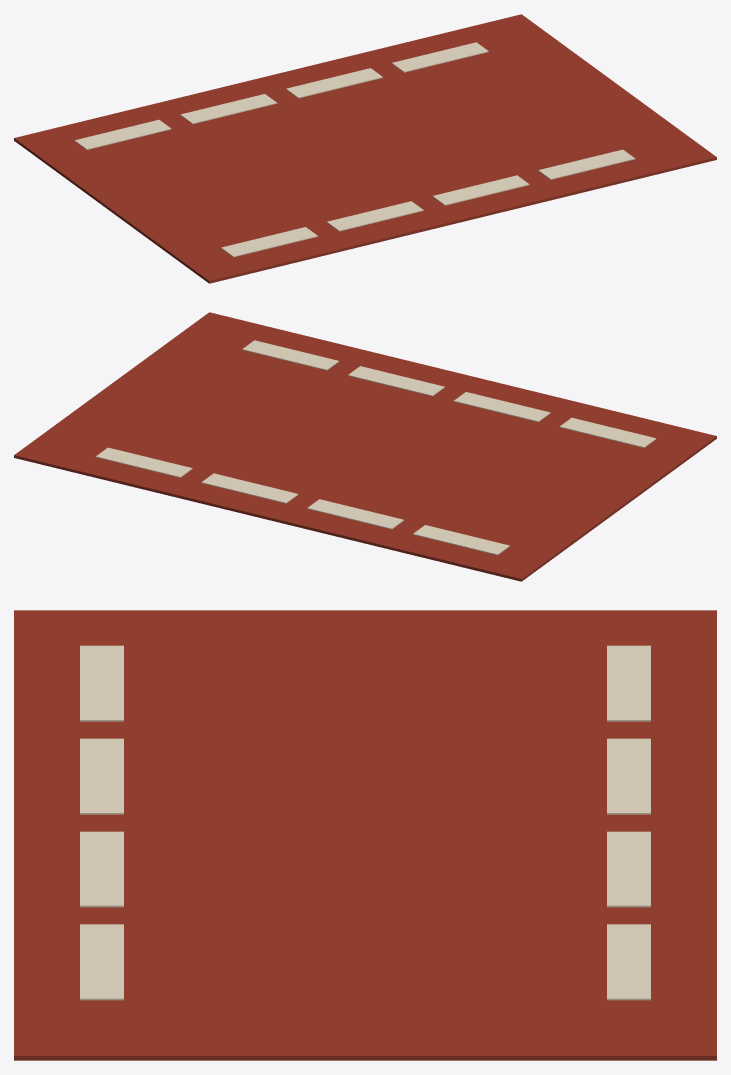
Rendered from city_rug.glb.
3 renders of one model, top to bottom at view 1: azimuth 30°, elevation 25°; view 2: azimuth 150°, elevation 25°; view 3: azimuth 270°, elevation 25°, orthographic. The views are drawn at different scales.
Parts seen in each view (by area): view 1: CityRug_Field, CityRug_Step2, CityRug_StepB2, CityRug_Step3, CityRug_StepB0, CityRug_StepB1, CityRug_Step0, CityRug_Step1, CityRug_StepB3; view 2: CityRug_Field, CityRug_Step2, CityRug_StepB2, CityRug_Step0, CityRug_Step1, CityRug_StepB3, CityRug_Step3, CityRug_StepB0, CityRug_StepB1; view 3: CityRug_Field, CityRug_Step0, CityRug_Step1, CityRug_Step2, CityRug_Step3, CityRug_StepB0, CityRug_StepB1, CityRug_StepB2, CityRug_StepB3.
Part boxes in pixels (bbox=[...]): CityRug_Field: bbox=[14, 14, 716, 283]; CityRug_Step2: bbox=[432, 175, 529, 205]; CityRug_StepB2: bbox=[286, 68, 382, 98]; CityRug_Step3: bbox=[538, 149, 635, 179]; CityRug_StepB0: bbox=[74, 119, 171, 149]; CityRug_StepB1: bbox=[180, 94, 277, 124]; CityRug_Step0: bbox=[221, 227, 317, 257]; CityRug_Step1: bbox=[327, 201, 423, 231]; CityRug_StepB3: bbox=[392, 42, 488, 72]; CityRug_Field: bbox=[14, 312, 716, 581]; CityRug_Step2: bbox=[348, 366, 444, 396]; CityRug_StepB2: bbox=[201, 473, 298, 503]; CityRug_Step0: bbox=[559, 417, 656, 447]; CityRug_Step1: bbox=[453, 392, 550, 422]; CityRug_StepB3: bbox=[95, 447, 192, 477]; CityRug_Step3: bbox=[242, 340, 338, 370]; CityRug_StepB0: bbox=[413, 525, 509, 555]; CityRug_StepB1: bbox=[307, 499, 403, 529]; CityRug_Field: bbox=[14, 610, 716, 1060]; CityRug_Step0: bbox=[80, 645, 123, 721]; CityRug_Step1: bbox=[80, 738, 123, 814]; CityRug_Step2: bbox=[80, 831, 123, 907]; CityRug_Step3: bbox=[80, 924, 123, 1000]; CityRug_StepB0: bbox=[607, 645, 650, 721]; CityRug_StepB1: bbox=[607, 738, 650, 814]; CityRug_StepB2: bbox=[607, 831, 650, 907]; CityRug_StepB3: bbox=[607, 924, 650, 1000].
Bounding box in the file's own units: 2.4 × 0.016 × 1.6.
